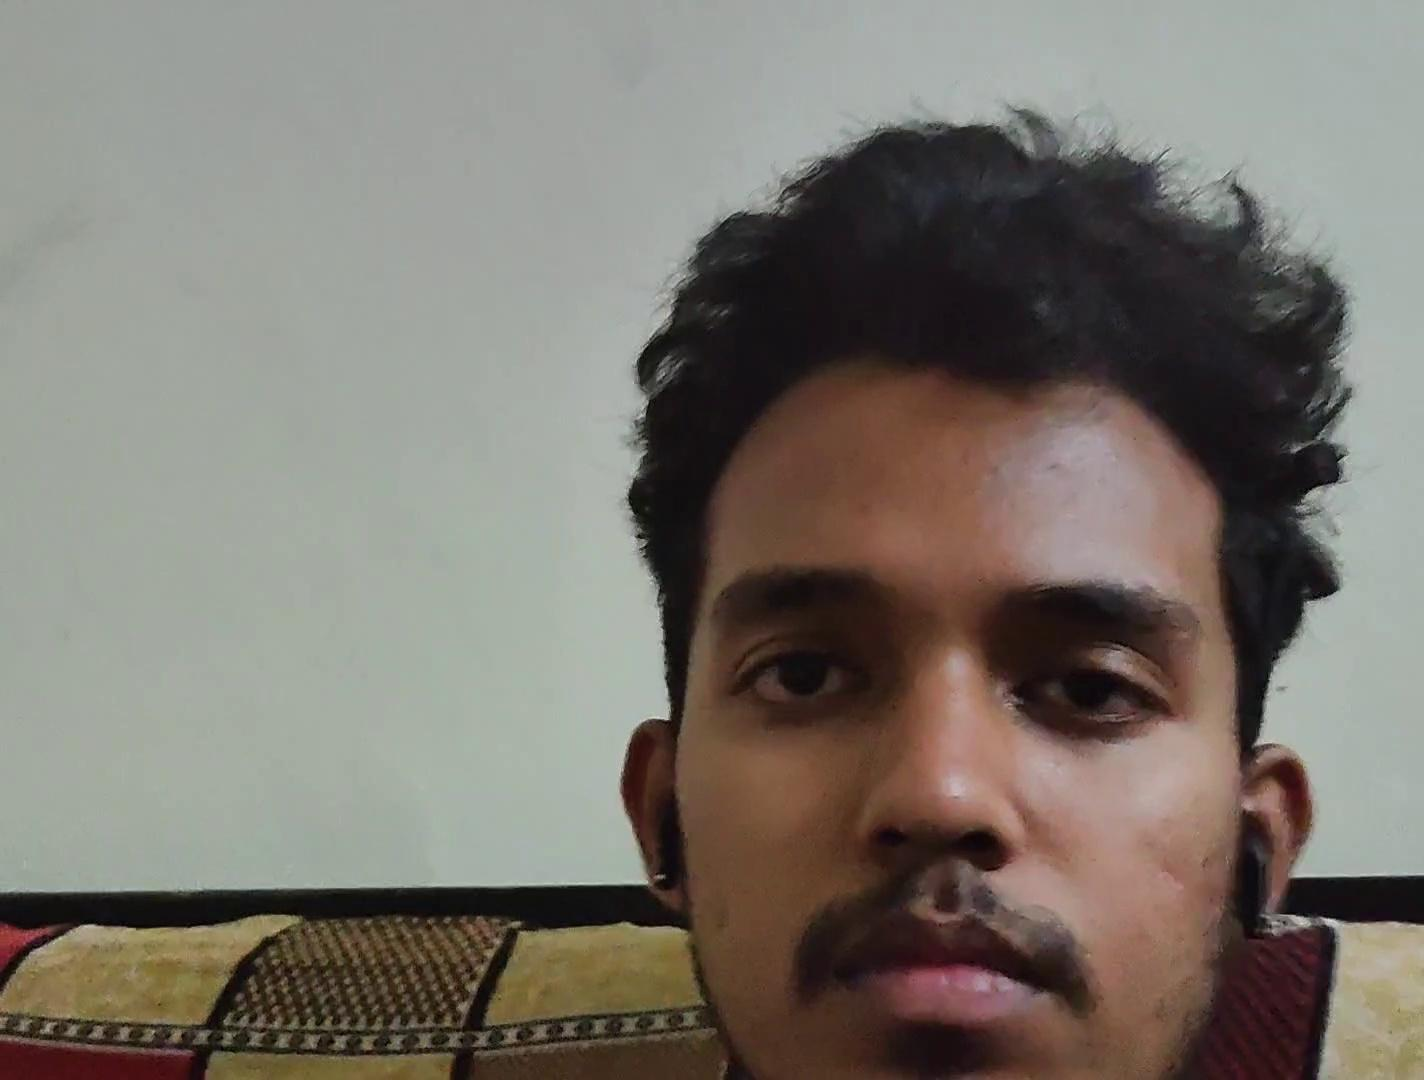face: (674, 368, 1245, 1078)
